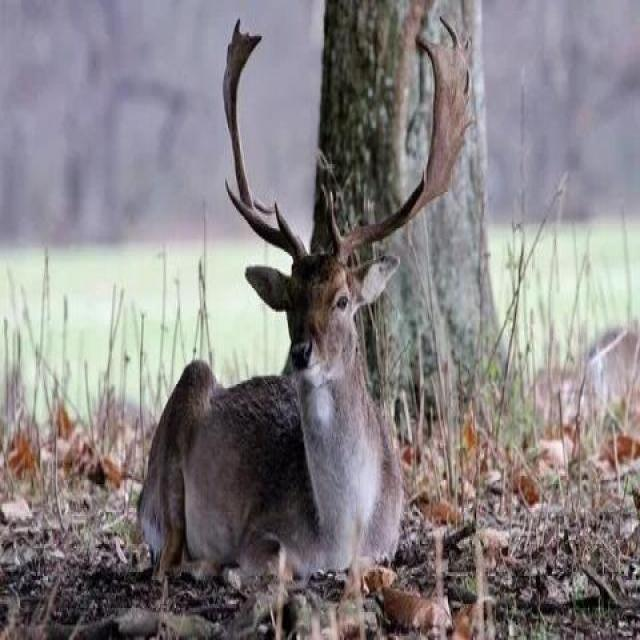deer: (127, 55, 510, 638)
